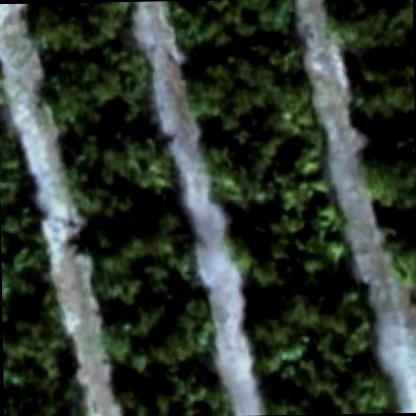Canopy-Citrus: (244, 288, 374, 394), (59, 120, 183, 218), (204, 117, 336, 208), (183, 42, 316, 130), (228, 200, 352, 288), (91, 216, 204, 312), (39, 44, 150, 126), (100, 300, 217, 372), (1, 314, 82, 415), (169, 0, 300, 54), (119, 361, 235, 415), (1, 211, 53, 321), (26, 1, 134, 53), (259, 372, 389, 414), (347, 51, 413, 132), (329, 0, 413, 60), (358, 135, 414, 215), (0, 111, 31, 216), (389, 225, 415, 294)
